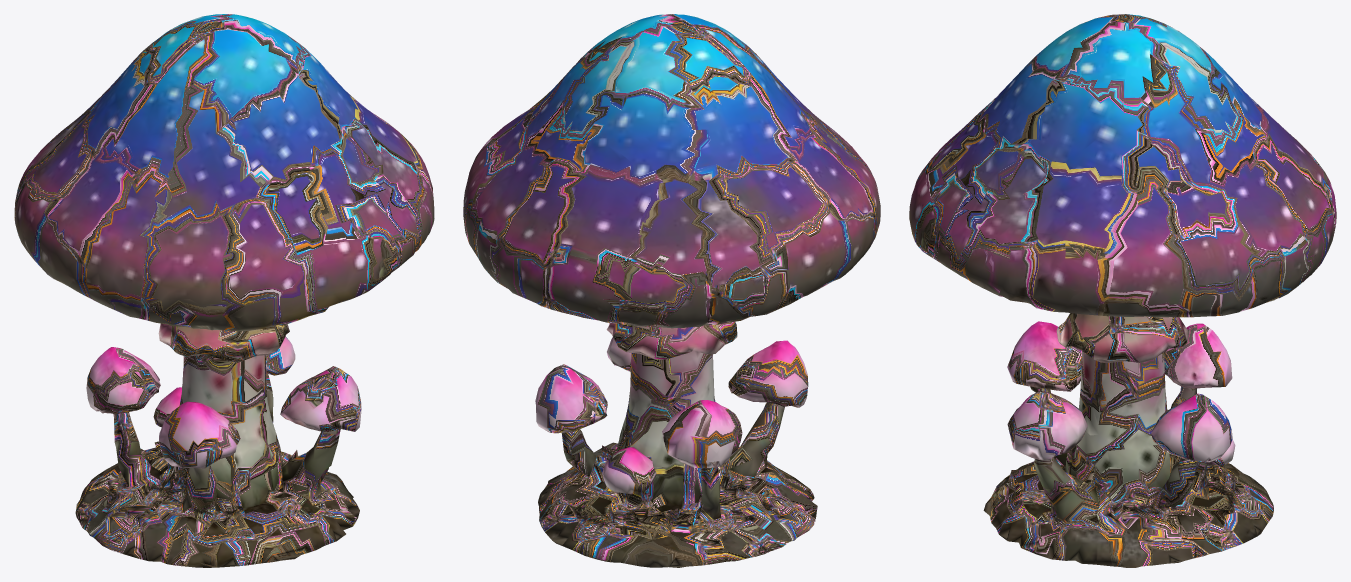
3 renders of one model, left to right at view 1: azimuth 30°, elevation 25°; view 2: azimuth 150°, elevation 25°; view 3: azimuth 270°, elevation 25°, orthographic.
Size of the model in its own units: 1.5 by 1.9 by 1.51.
Materials: 1 (1 with a texture image).
